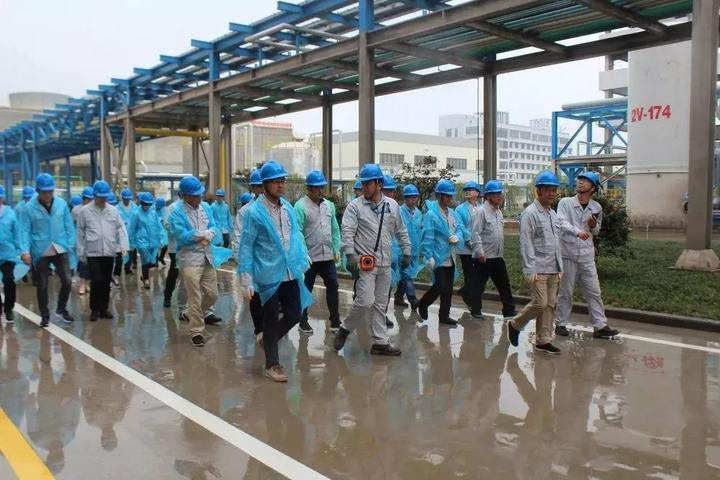helmet: (180, 176, 208, 200), (262, 160, 287, 182), (37, 172, 57, 194), (537, 172, 561, 190), (305, 170, 330, 187), (360, 165, 383, 183), (378, 170, 397, 191), (581, 170, 602, 188), (438, 178, 457, 197), (404, 182, 422, 200), (486, 182, 505, 198), (248, 172, 268, 186), (95, 182, 110, 199), (465, 180, 482, 194), (141, 192, 156, 206), (22, 187, 36, 202), (122, 189, 132, 202), (218, 189, 226, 197)
